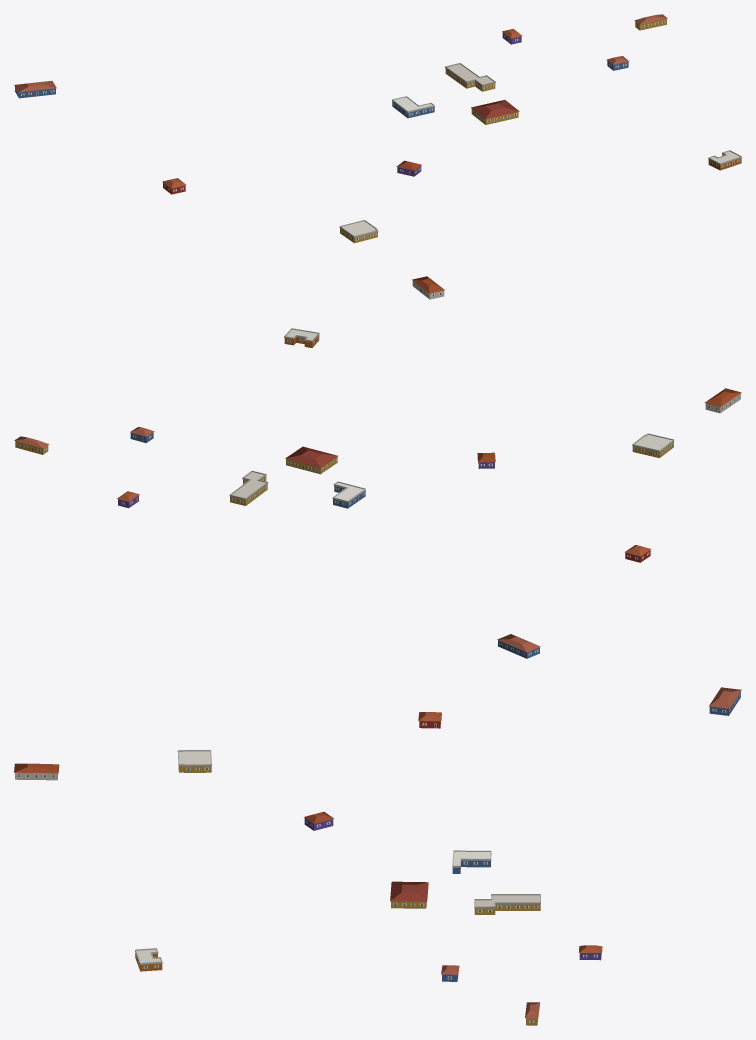
The model's file is msb_oranjestad_m18_0.glb.
3 renders of one model, top to bottom at view 1: azimuth 30°, elevation 25°; view 2: azimuth 150°, elevation 25°; view 3: azimuth 270°, elevation 25°, orthographic. The views are drawn at different scales.
Parts seen in each view (by area): view 1: msb_oranjestad_m18_0_lod0; view 2: msb_oranjestad_m18_0_lod0; view 3: msb_oranjestad_m18_0_lod0.
Boxes of the visible parts, x1,y1,x2,y2 form: msb_oranjestad_m18_0_lod0: (14,14,741,299); msb_oranjestad_m18_0_lod0: (14,328,741,658); msb_oranjestad_m18_0_lod0: (14,687,741,1025).
Size of what is drawn, in the model's own units: 329 by 10.4 by 309.
Materials: 3 (1 with a texture image).
